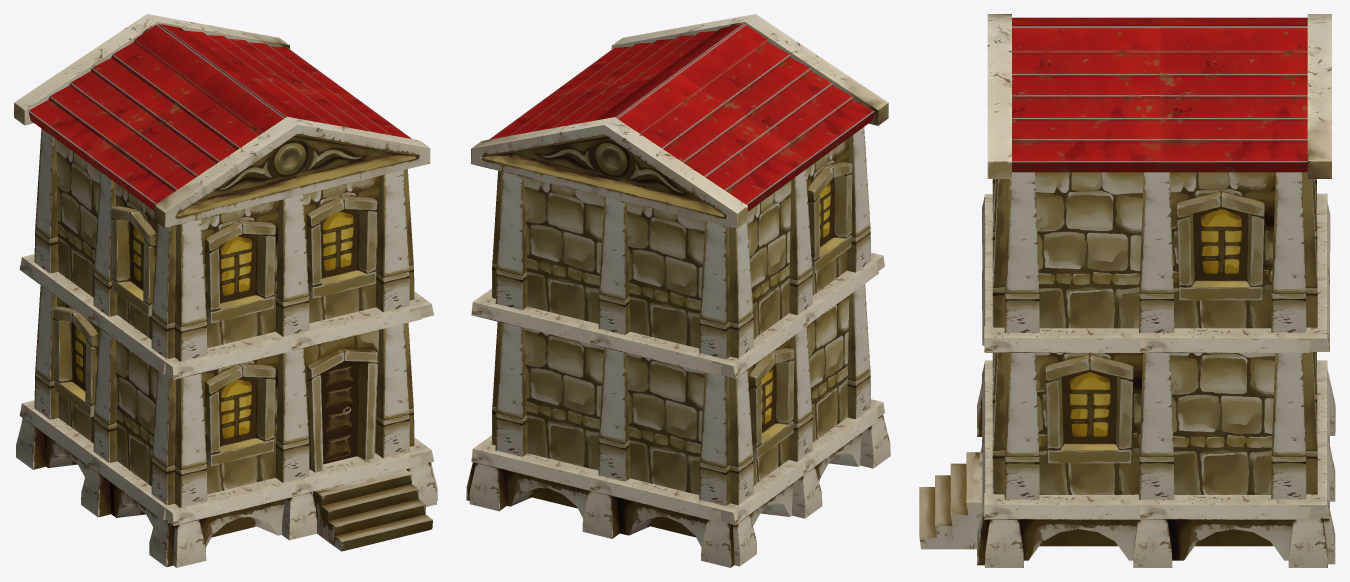
The model's file is Rome_Village_Buildings_02.FBX.
3 renders of one model, left to right at view 1: azimuth 30°, elevation 25°; view 2: azimuth 150°, elevation 25°; view 3: azimuth 270°, elevation 25°, orthographic. The views are drawn at different scales.
Parts seen in each view (by area): view 1: Rome_Village_Buildings_02; view 2: Rome_Village_Buildings_02; view 3: Rome_Village_Buildings_02.
Boxes of the visible parts, x1,y1,x2,y2 form: Rome_Village_Buildings_02: [14, 14, 437, 567]; Rome_Village_Buildings_02: [466, 14, 890, 567]; Rome_Village_Buildings_02: [919, 14, 1335, 567].
Bounding box in the file's own units: 585 × 841 × 679.
